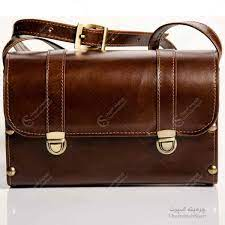Bag: (2, 23, 222, 191)
